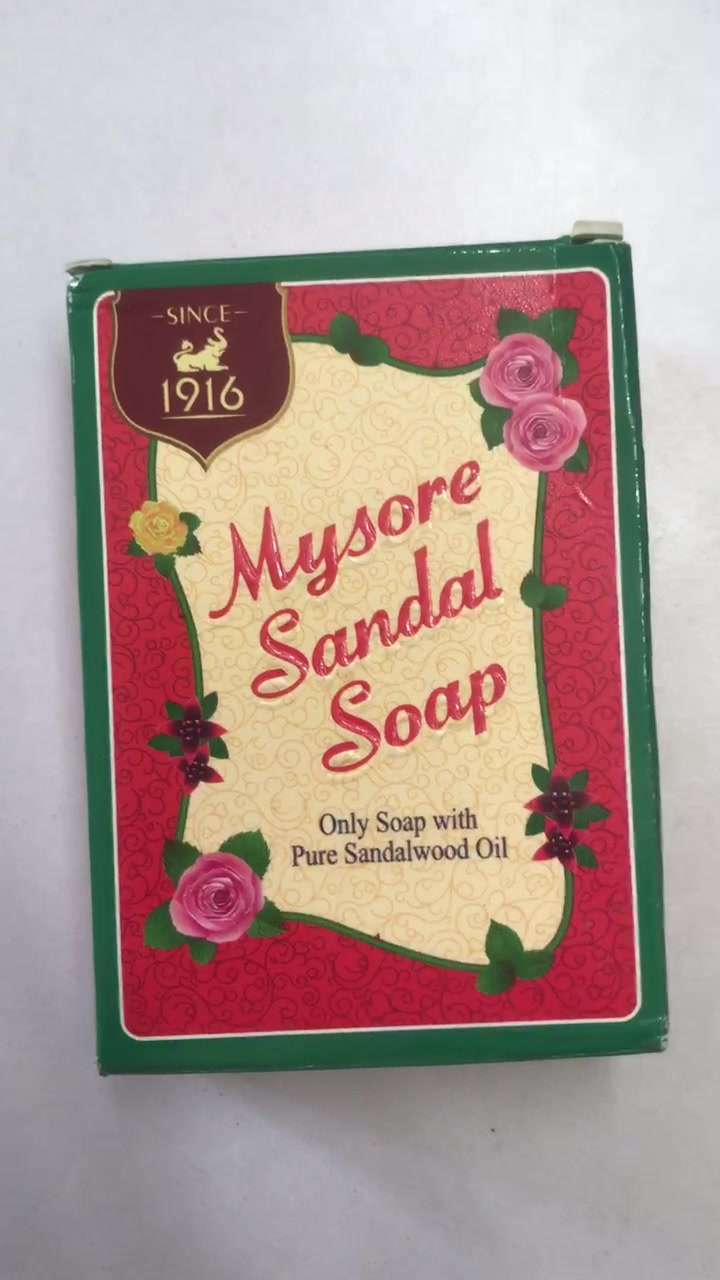mysore sandal soap: (67, 250, 664, 1056)
